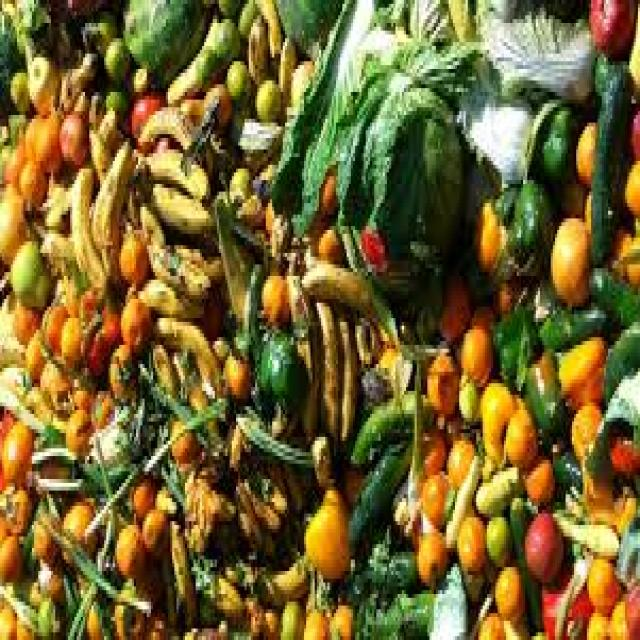food_waste: (35, 55, 624, 587)
